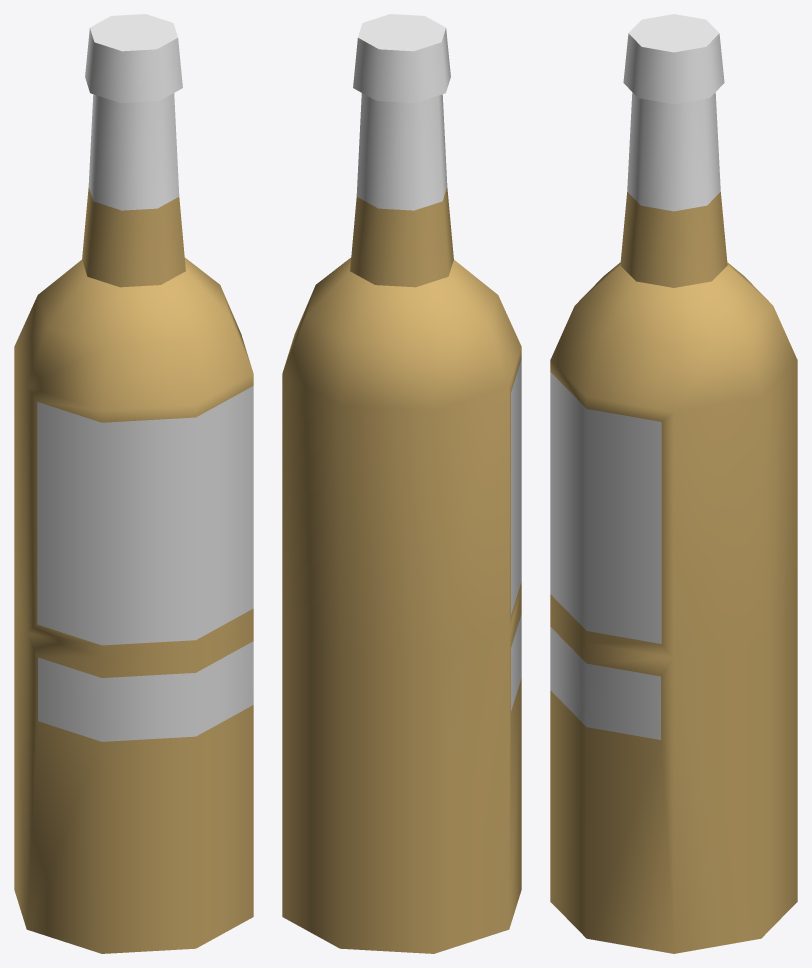
The model's file is prop_085.fbx.
The picture shows the model from 3 angles, left to right: view 1: azimuth 30°, elevation 25°; view 2: azimuth 150°, elevation 25°; view 3: azimuth 270°, elevation 25°; orthographic projection.
Visible parts, largest first — view 1: prop_085; view 2: prop_085; view 3: prop_085.
Boxes of the visible parts, x1,y1,x2,y2 form: prop_085: (14,14,253,953); prop_085: (282,14,521,953); prop_085: (550,14,797,953).
Bounding box in the file's own units: 11.55 × 11.55 × 44.78.
